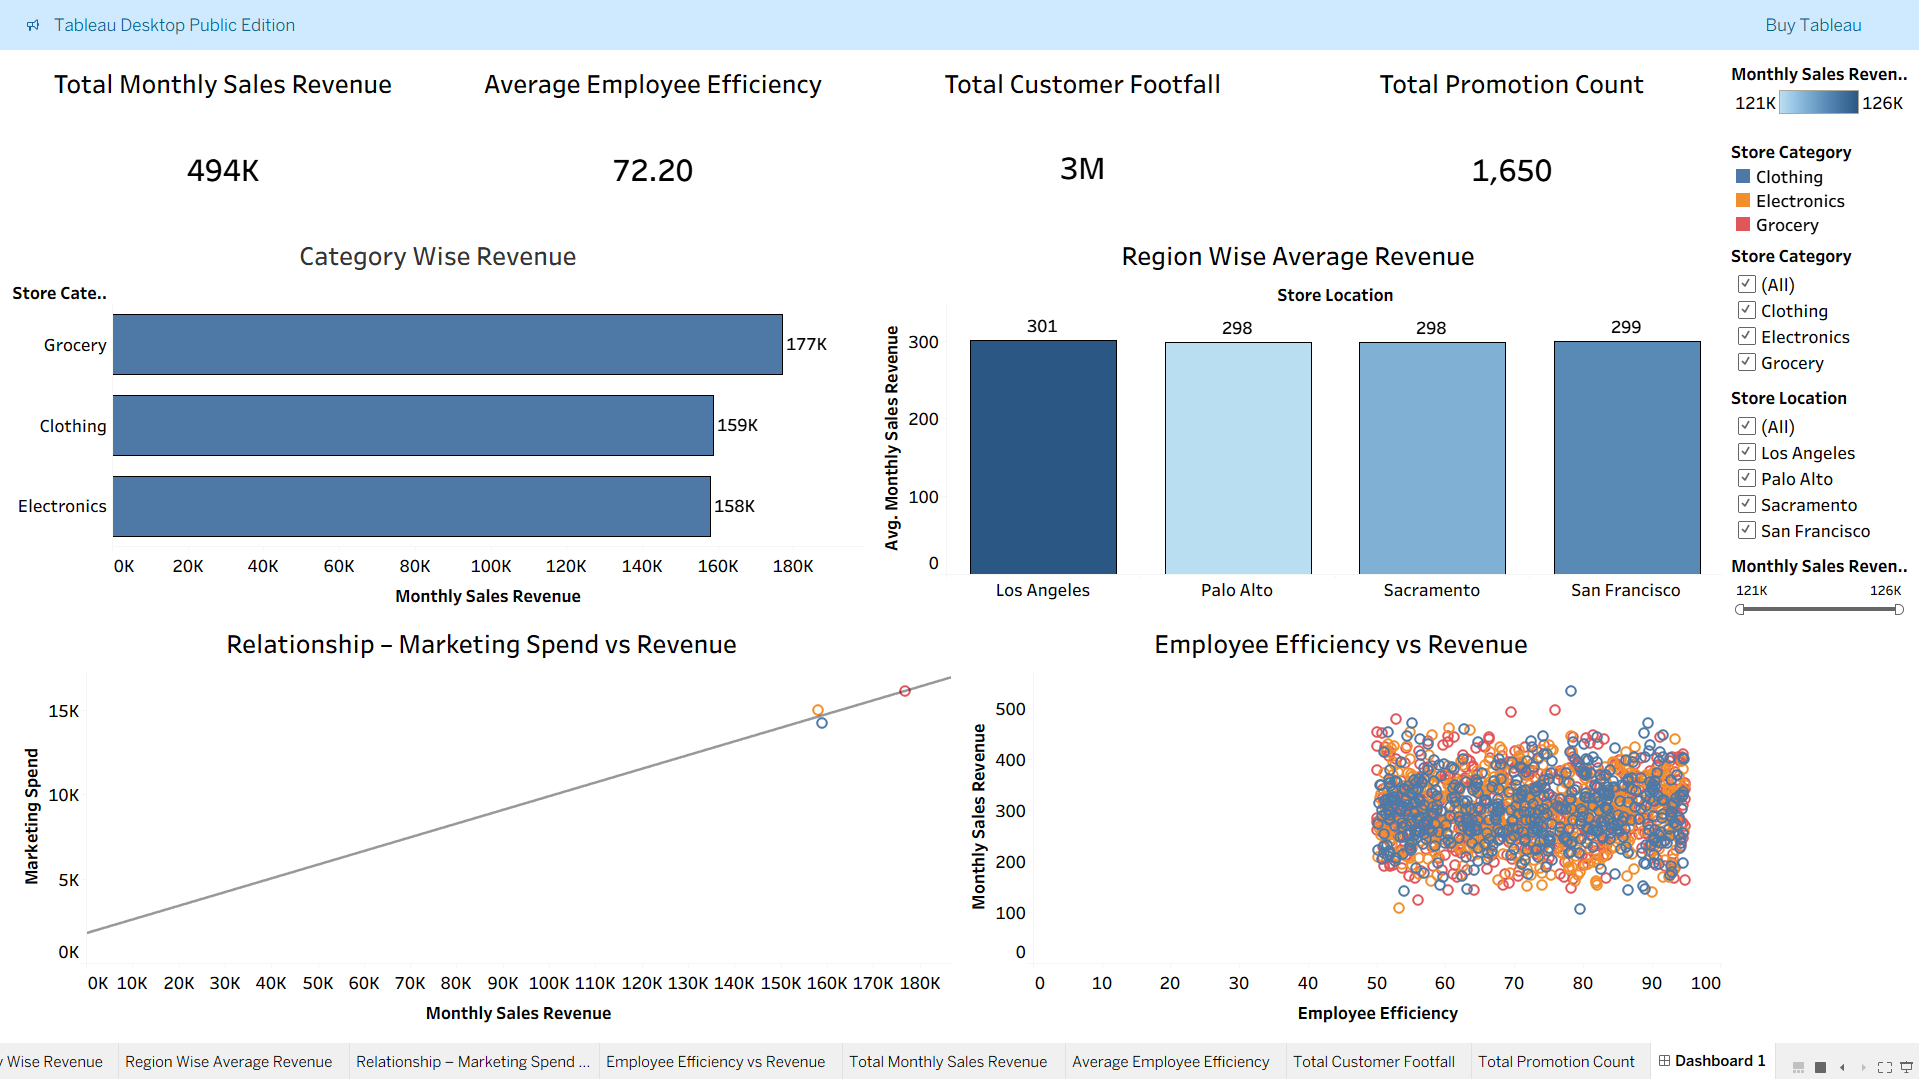

The page's visual inventory and layout, read from the dashboard file:
{"tool":"tableau","page":{"name":"Dashboard 1","canvas":[1000,1000],"units":"permille","ordinal":0},"visuals":[{"type":"worksheet","title":"Total Monthly Sales Revenue","mark":"Automatic","box":[4.8,10,223.6,172.3]},{"type":"worksheet","title":"Average Employee Efficiency","mark":"Automatic","box":[228.4,10,223.6,172.3]},{"type":"worksheet","title":"Total Customer Footfall","mark":"Automatic","box":[452,10,223.5,172.3]},{"type":"worksheet","title":"Total Promotion Count","mark":"Automatic","box":[675.5,10,223.6,172.3]},{"type":"legend","title":"Region Wise Average Revenue","param":"[federated.1ihefak0bu7knq123u97q0jet8ax].[sum:MonthlySalesRevenue:qk]","box":[899.1,10,96.1,97.4]},{"type":"legend","title":"Relationship – Marketing Spend vs Revenue","param":"[federated.1ihefak0bu7knq123u97q0jet8ax].[none:StoreCategory:nk]","box":[899.1,107.4,96.1,129.8]},{"type":"worksheet","title":"Category Wise Revenue","mark":"Automatic","rows":["StoreCategory"],"cols":["MonthlySalesRevenue"],"box":[4.8,182.3,447.1,389.5]},{"type":"worksheet","title":"Region Wise Average Revenue","mark":"Automatic","rows":["MonthlySalesRevenue"],"cols":["StoreLocation"],"box":[452,182.3,447.1,389.5]},{"type":"filter","title":"Category Wise Revenue","param":"[federated.1ihefak0bu7knq123u97q0jet8ax].[none:StoreCategory:nk]","box":[899.1,237.2,96.1,177.3]},{"type":"filter","title":"Region Wise Average Revenue","param":"[federated.1ihefak0bu7knq123u97q0jet8ax].[none:StoreLocation:nk]","box":[899.1,414.5,96.1,209.7]},{"type":"worksheet","title":"Relationship – Marketing Spend vs Revenue","mark":"Automatic","rows":["MarketingSpend"],"cols":["MonthlySalesRevenue"],"box":[4.8,571.8,492.6,418.2]},{"type":"worksheet","title":"Employee Efficiency vs Revenue","mark":"Automatic","rows":["MonthlySalesRevenue"],"cols":["EmployeeEfficiency"],"box":[497.4,571.8,401.7,418.2]},{"type":"filter","title":"Region Wise Average Revenue","param":"[federated.1ihefak0bu7knq123u97q0jet8ax].[sum:MonthlySalesRevenue:qk]","box":[899.1,624.2,96.1,93.6]}]}

Visuals, with their boxes on the dashboard's canvas, which has no fixed pixel size, in thousandths of its width and height (x1, y1, x2, y2). These are canvas units, not pixel positions in the 1919x1079 screenshot, which may show the page scaled, cropped or inside an application window:
"Total Monthly Sales Revenue" worksheet: (x1=5, y1=10, x2=228, y2=182)
"Average Employee Efficiency" worksheet: (x1=228, y1=10, x2=452, y2=182)
"Total Customer Footfall" worksheet: (x1=452, y1=10, x2=676, y2=182)
"Total Promotion Count" worksheet: (x1=676, y1=10, x2=899, y2=182)
"Region Wise Average Revenue" legend: (x1=899, y1=10, x2=995, y2=107)
"Relationship – Marketing Spend vs Revenue" legend: (x1=899, y1=107, x2=995, y2=237)
"Category Wise Revenue" worksheet: (x1=5, y1=182, x2=452, y2=572)
"Region Wise Average Revenue" worksheet: (x1=452, y1=182, x2=899, y2=572)
"Category Wise Revenue" filter: (x1=899, y1=237, x2=995, y2=414)
"Region Wise Average Revenue" filter: (x1=899, y1=414, x2=995, y2=624)
"Relationship – Marketing Spend vs Revenue" worksheet: (x1=5, y1=572, x2=497, y2=990)
"Employee Efficiency vs Revenue" worksheet: (x1=497, y1=572, x2=899, y2=990)
"Region Wise Average Revenue" filter: (x1=899, y1=624, x2=995, y2=718)
